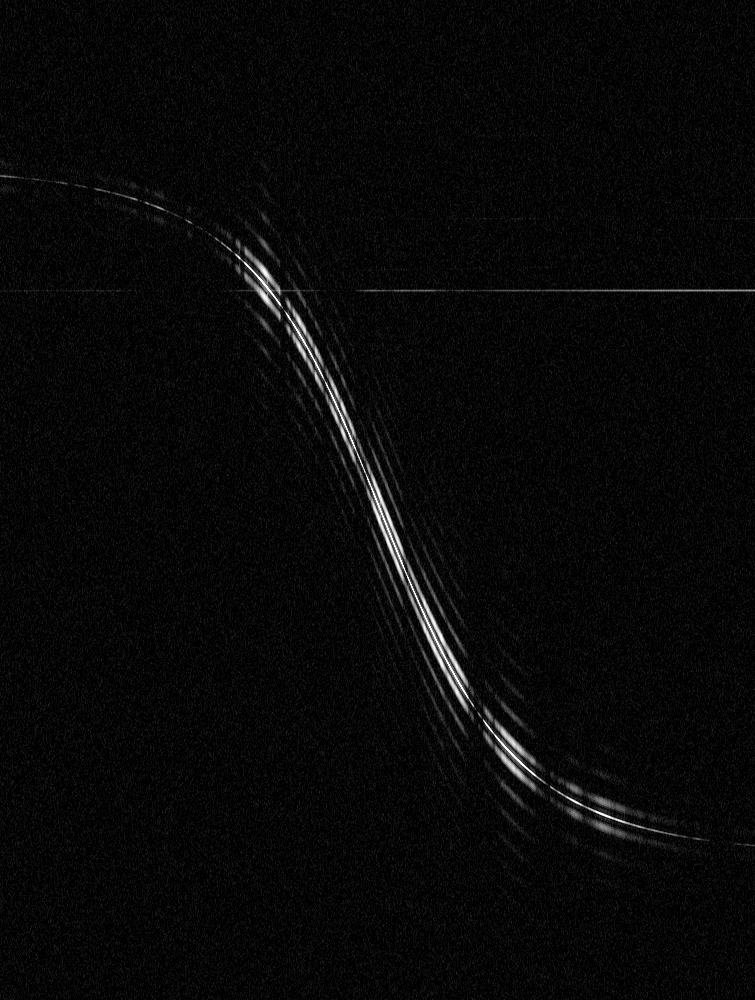signal: (0, 0, 754, 999)
